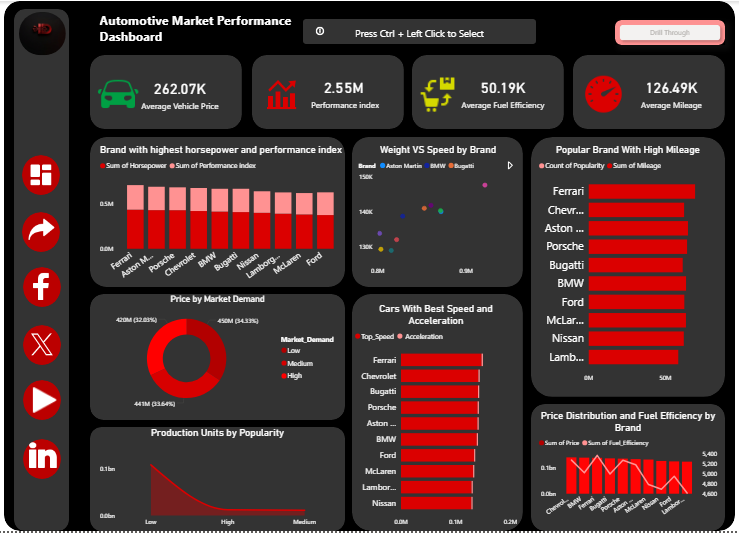

Layout of this report page (visuals, bound fields, positions):
{"tool":"powerbi","page":{"name":"Home","canvas":[1450,1030],"ordinal":0},"visuals":[{"type":"gauge","box":[1059.2,299.3,281.8,153.5],"z":0},{"type":"shape","box":[13.6,0,1420.6,1030],"z":1000},{"type":"shape","box":[180.7,104.9,295.4,143.8],"z":2000},{"type":"shape","box":[495.6,104.9,295.4,143.8],"z":3000},{"type":"shape","box":[806.5,104.9,295.4,143.8],"z":4000},{"type":"shape","box":[1119.4,104.9,295.4,143.8],"z":5000},{"type":"shape","box":[33,15.5,106.9,1014.5],"z":6000},{"type":"shape","box":[180.7,264.3,495.6,291.5],"z":7000},{"type":"shape","box":[689.9,264.3,332.3,291.5],"z":8000},{"type":"shape","box":[1037.8,264.3,377,505.3],"z":9000},{"type":"shape","box":[180.7,569.4,495.6,244.9],"z":10000},{"type":"shape","box":[689.9,569.4,332.3,460.6],"z":11000},{"type":"shape","box":[180.7,827.9,495.6,202.1],"z":12000},{"type":"shape","box":[1037.8,783.2,377,246.8],"z":13000},{"type":"shape","box":[594.7,35,452.8,48.6],"z":14000},{"type":"columnChart","title":"Brand with highest horsepower and performance index","fields":{"Category":["Table_Elite_Sports_Cars_in_Data.Brand"],"Y":["Sum(Table_Elite_Sports_Cars_in_Data.Horsepower)","Sum(Table_Elite_Sports_Cars_in_Data.Performance index)"]},"box":[194.3,277.9,482,277.9],"z":15000},{"type":"barChart","title":"Cars With Best Speed and Acceleration","fields":{"Category":["Table_Elite_Sports_Cars_in_Data.Brand"],"Y":["Sum(Table_Elite_Sports_Cars_in_Data.Top_Speed)","Sum(Table_Elite_Sports_Cars_in_Data.Acceleration_0_100)"]},"box":[689.9,586.9,326.5,443.1],"z":16000},{"type":"scatterChart","title":"Weight VS Speed by Brand","fields":{"Series":["Table_Elite_Sports_Cars_in_Data.Brand"],"X":["Sum(Table_Elite_Sports_Cars_in_Data.Weight)"],"Y":["Sum(Table_Elite_Sports_Cars_in_Data.Top_Speed)"]},"box":[697.7,277.9,318.7,264.3],"z":17000},{"type":"lineStackedColumnComboChart","title":"Price Distribution and Fuel Efficiency by Brand","fields":{"Category":["Table_Elite_Sports_Cars_in_Data.Brand"],"Y":["Sum(Table_Elite_Sports_Cars_in_Data.Price)"],"Y2":["Sum(Table_Elite_Sports_Cars_in_Data.Fuel_Efficiency)"]},"box":[1047.5,794.8,357.6,215.7],"z":18000},{"type":"donutChart","title":"Price by Market Demand","fields":{"Category":["Table_Elite_Sports_Cars_in_Data.Market_Demand"],"Y":["Sum(Table_Elite_Sports_Cars_in_Data.Price)"]},"box":[180.7,569.4,495.6,231.3],"z":19000},{"type":"lineChart","fields":{"Category":["Table_Elite_Sports_Cars_in_Data.Popularity"],"Y":["Sum(Table_Elite_Sports_Cars_in_Data.Production_Units)"]},"box":[194.3,827.9,468.4,202.1],"z":20000},{"type":"barChart","title":"Popular Brand With High Mileage","fields":{"Category":["Table_Elite_Sports_Cars_in_Data.Brand"],"Y":["CountNonNull(Table_Elite_Sports_Cars_in_Data.Popularity)","Sum(Table_Elite_Sports_Cars_in_Data.Mileage)"]},"box":[1047.5,277.9,357.6,472.2],"z":21000},{"type":"image","box":[511.1,143.8,83.6,75.8],"z":22000},{"type":"image","box":[806.5,143.8,99.1,75.8],"z":23000},{"type":"image","box":[194.3,134.1,81.6,93.3],"z":24000},{"type":"image","box":[1131.1,141.9,95.2,77.7],"z":25000},{"type":"card","fields":{"Values":["Avg(Table_Elite_Sports_Cars_in_Data.Price)"]},"box":[235.2,122.4,241,114.7],"z":26000},{"type":"card","fields":{"Values":["Sum(Table_Elite_Sports_Cars_in_Data.Performance index)"]},"box":[579.1,104.9,190.5,143.8],"z":27000},{"type":"card","fields":{"Values":["Sum(Table_Elite_Sports_Cars_in_Data.Fuel_Efficiency)"]},"box":[878.4,104.9,209.9,143.8],"z":28000},{"type":"card","fields":{"Values":["Avg(Table_Elite_Sports_Cars_in_Data.Mileage)"]},"box":[1216.6,104.9,188.5,143.8],"z":29000},{"type":"actionButton","box":[604.4,35,433.4,46.6],"z":30000},{"type":"shape","box":[48.6,299.3,73.8,77.7],"z":31000},{"type":"image","box":[56.4,310.9,58.3,54.4],"z":32000},{"type":"shape","box":[48.6,410.1,73.8,77.7],"z":33000},{"type":"shape","box":[50.5,516.9,73.8,77.7],"z":34000},{"type":"shape","box":[50.5,629.7,73.8,77.7],"z":35000},{"type":"shape","box":[50.5,736.5,73.8,77.7],"z":36000},{"type":"shape","box":[1201,36.9,213.8,48.6],"z":37000},{"type":"actionButton","box":[1201,36.9,213.8,48.6],"z":38000},{"type":"shape","box":[50.5,851.2,73.8,77.7],"z":39000},{"type":"image","box":[56.4,392.6,60.2,95.2],"z":40000},{"type":"image","box":[56.4,522.8,58.3,64.1],"z":41000},{"type":"image","box":[56.4,639.4,62.2,56.4],"z":42000},{"type":"image","box":[56.4,744.3,68,62.2],"z":43000},{"type":"image","box":[60.2,851.2,58.3,64.1],"z":44000},{"type":"textbox","box":[194.3,15.5,384.8,89.4],"z":45000},{"type":"image","box":[42.8,21.4,91.3,83.6],"z":46000}]}

Visuals, with their boxes on the page's 1450x1030 design canvas (x1, y1, x2, y2). These are canvas units, not pixel positions in the 739x536 screenshot, which may show the page scaled, cropped or inside an application window:
gauge: 1059/299/1341/453
shape: 14/0/1434/1030
shape: 181/105/476/249
shape: 496/105/791/249
shape: 806/105/1102/249
shape: 1119/105/1415/249
shape: 33/16/140/1030
shape: 181/264/676/556
shape: 690/264/1022/556
shape: 1038/264/1415/770
shape: 181/569/676/814
shape: 690/569/1022/1030
shape: 181/828/676/1030
shape: 1038/783/1415/1030
shape: 595/35/1048/84
"Brand with highest horsepower and performance index" columnChart: 194/278/676/556
"Cars With Best Speed and Acceleration" barChart: 690/587/1016/1030
"Weight VS Speed by Brand" scatterChart: 698/278/1016/542
"Price Distribution and Fuel Efficiency by Brand" lineStackedColumnComboChart: 1048/795/1405/1010
"Price by Market Demand" donutChart: 181/569/676/801
lineChart - Table_Elite_Sports_Cars_in_Data.Popularity x Sum(Table_Elite_Sports_Cars_in_Data.Production_Units): 194/828/663/1030
"Popular Brand With High Mileage" barChart: 1048/278/1405/750
image: 511/144/595/220
image: 806/144/906/220
image: 194/134/276/227
image: 1131/142/1226/220
card - Avg(Table_Elite_Sports_Cars_in_Data.Price): 235/122/476/237
card - Sum(Table_Elite_Sports_Cars_in_Data.Performance index): 579/105/770/249
card - Sum(Table_Elite_Sports_Cars_in_Data.Fuel_Efficiency): 878/105/1088/249
card - Avg(Table_Elite_Sports_Cars_in_Data.Mileage): 1217/105/1405/249
actionButton: 604/35/1038/82
shape: 49/299/122/377
image: 56/311/115/365
shape: 49/410/122/488
shape: 50/517/124/595
shape: 50/630/124/707
shape: 50/736/124/814
shape: 1201/37/1415/86
actionButton: 1201/37/1415/86
shape: 50/851/124/929
image: 56/393/117/488
image: 56/523/115/587
image: 56/639/119/696
image: 56/744/124/806
image: 60/851/118/915
textbox: 194/16/579/105
image: 43/21/134/105
